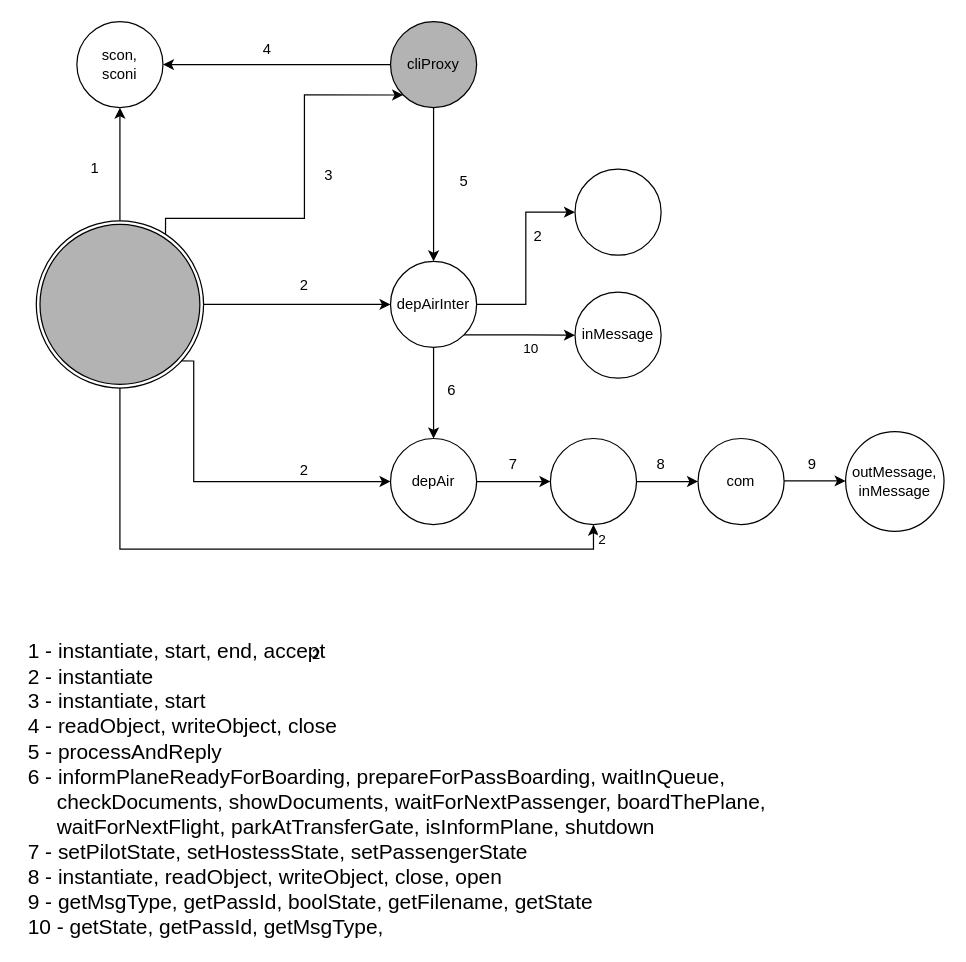
Image size: 966x962. Some labels were removed from this diagram. Each missing label, with the centre of its shape:
DepartureAirportMain: [119,303]
outMessage: [617,211]
reposStub: [593,481]
